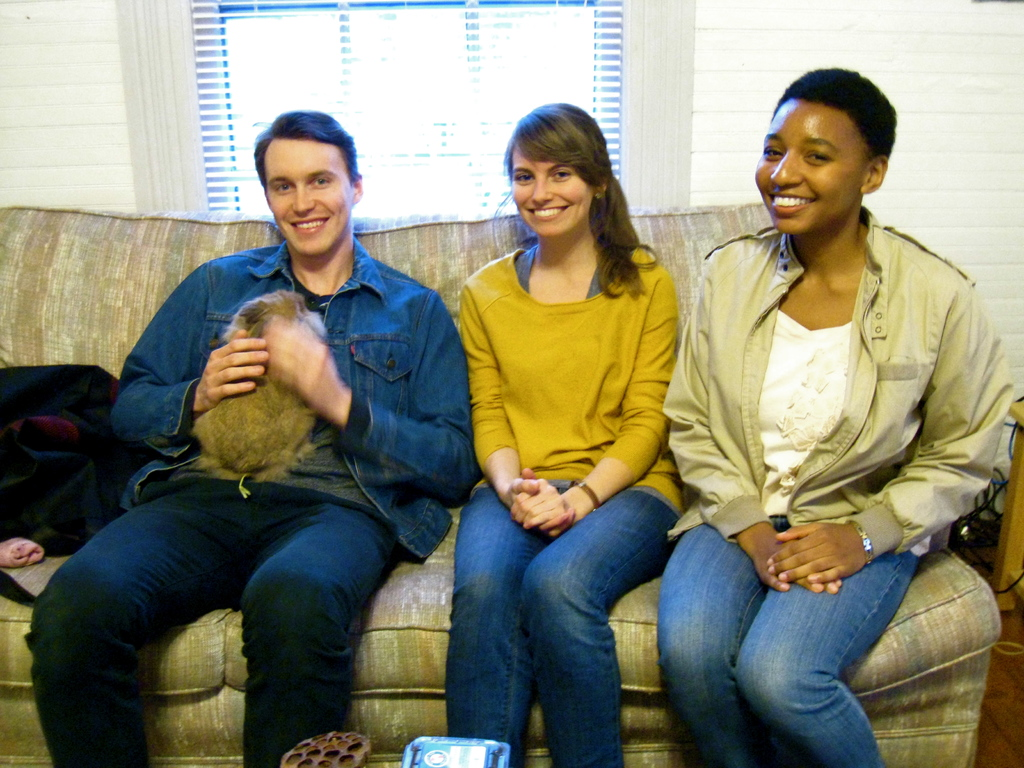Animal: (183, 283, 329, 485)
